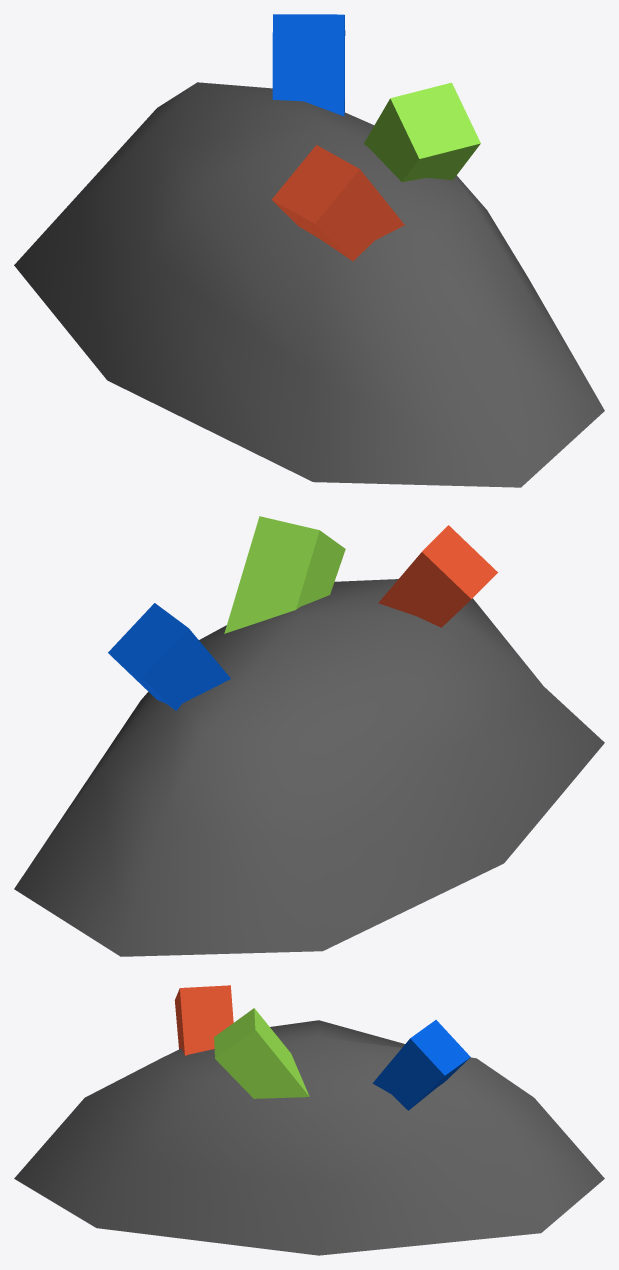
File: trash.fbx
3 views of the same model, one above another, from view 1: azimuth 30°, elevation 25°; view 2: azimuth 150°, elevation 25°; view 3: azimuth 270°, elevation 25° (orthographic). The views are drawn at different scales.
Visible parts, largest first — view 1: Trash; view 2: Trash; view 3: Trash.
Boxes of the visible parts, x1,y1,x2,y2 form: Trash: [14, 14, 604, 487]; Trash: [14, 516, 604, 956]; Trash: [14, 985, 604, 1255].
Size of the model in its own units: 69.06 by 40.32 by 117.
